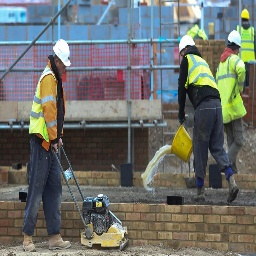helmet: (52, 37, 72, 70), (178, 35, 197, 57), (227, 29, 243, 50)
person: (24, 38, 72, 256), (177, 34, 224, 202), (217, 30, 248, 183)
vest: (28, 65, 62, 146), (221, 54, 245, 127), (183, 57, 219, 92)
